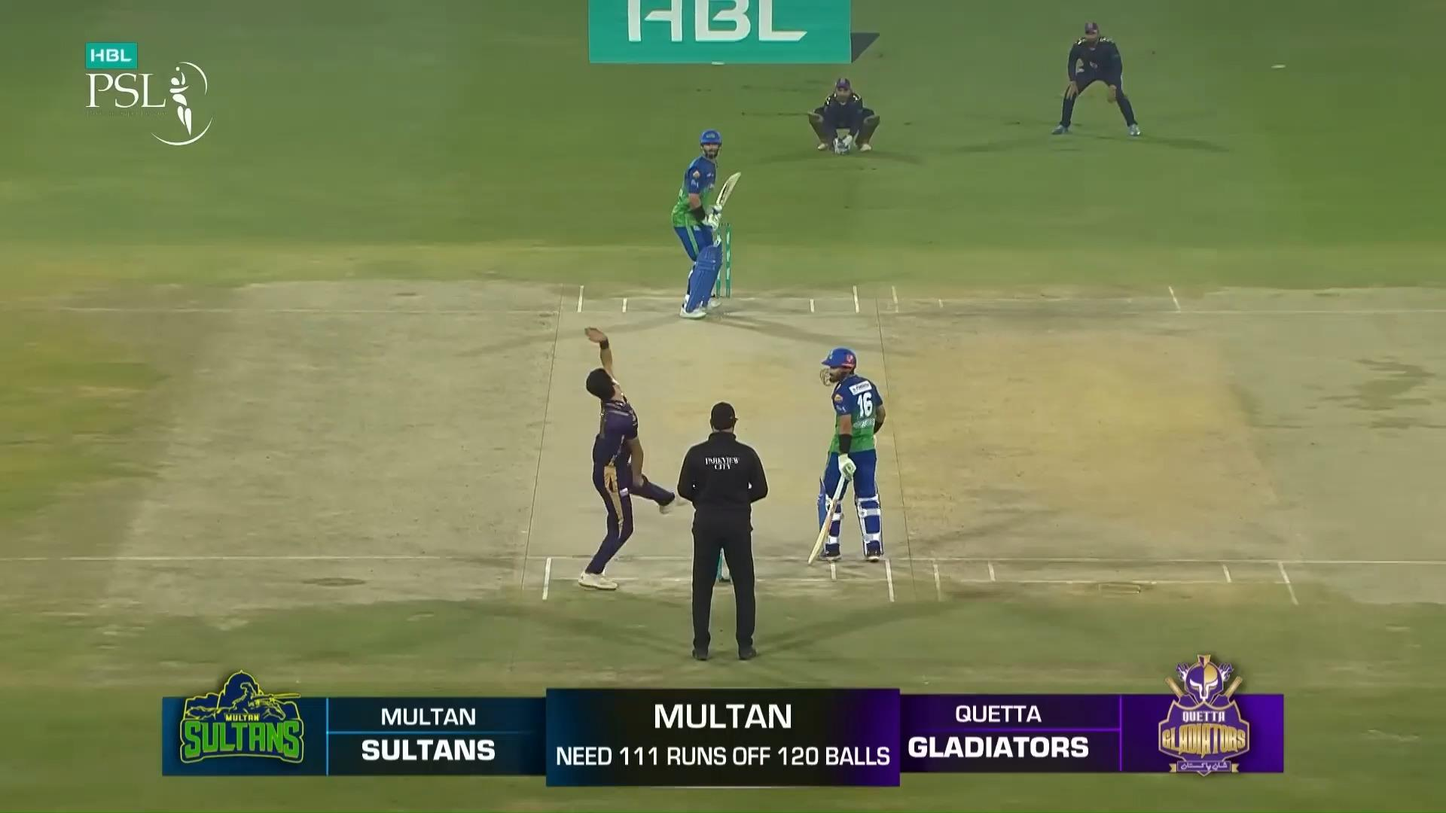batsman: (671, 130, 742, 319)
